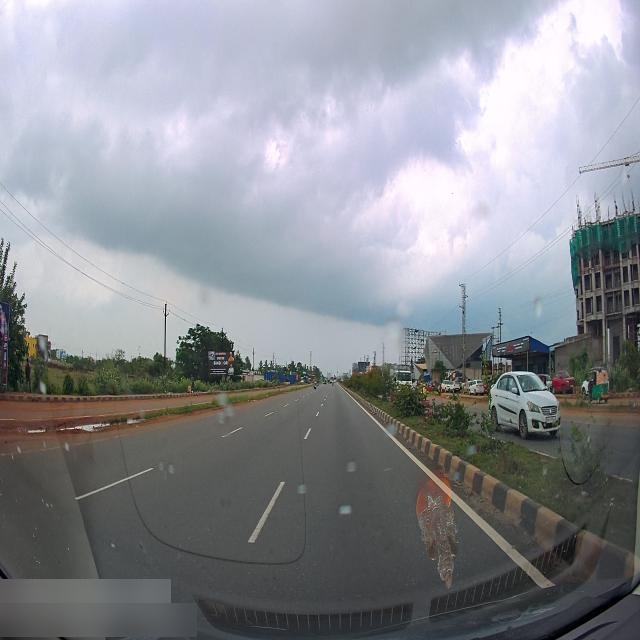pothole: (51, 414, 146, 436), (20, 420, 49, 438)
